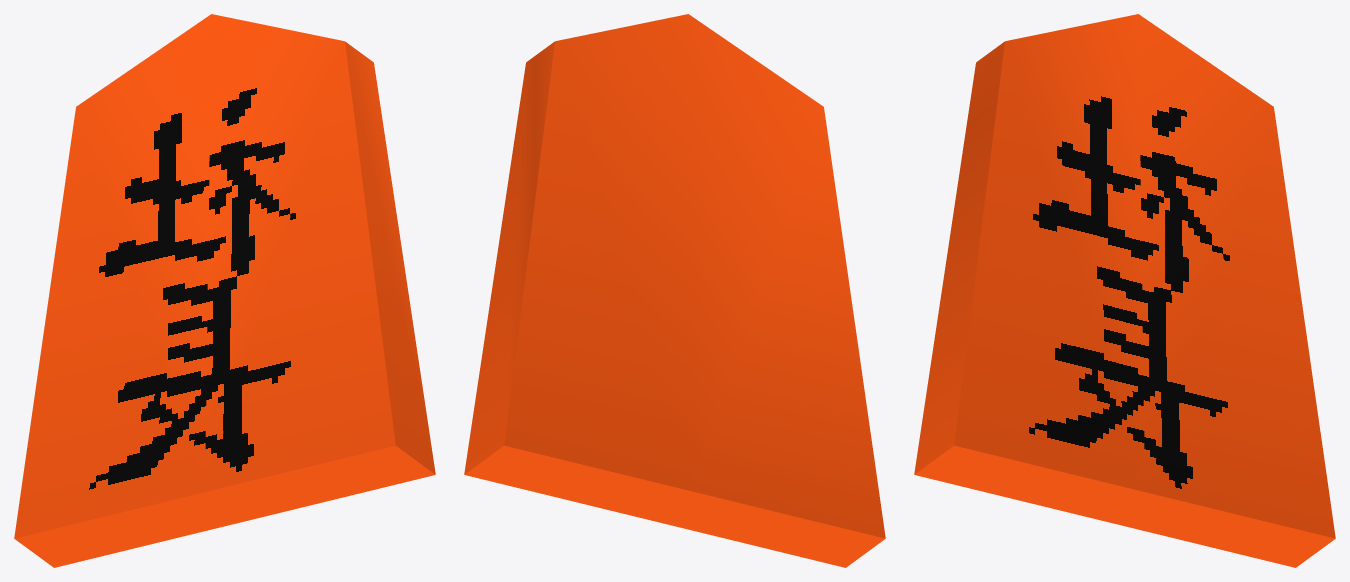
Rendered from ps2_save-icons_taisen4.glb.
3 renders of one model, left to right at view 1: azimuth 30°, elevation 25°; view 2: azimuth 150°, elevation 25°; view 3: azimuth 330°, elevation 25°, orthographic.
Visible parts, largest first — view 1: icon1.ico; view 2: icon1.ico; view 3: icon1.ico.
Boxes of the visible parts, bbox=[...] form: icon1.ico: bbox=[14, 14, 435, 567]; icon1.ico: bbox=[464, 14, 885, 567]; icon1.ico: bbox=[914, 14, 1335, 567].
Size of the model in its own units: 1.83 by 2.22 by 0.333.
Materials: 1 (1 with a texture image).
